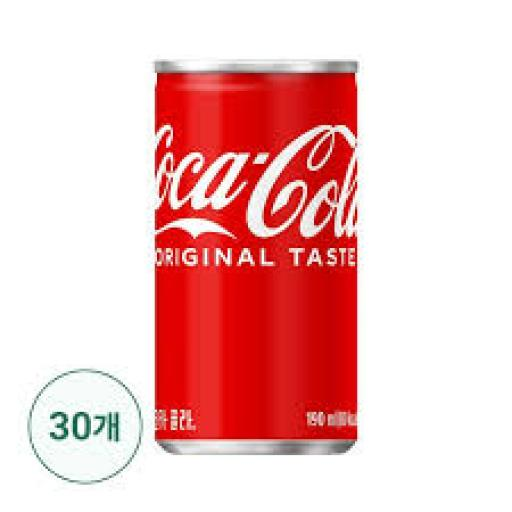Coca: (143, 46, 371, 467)
